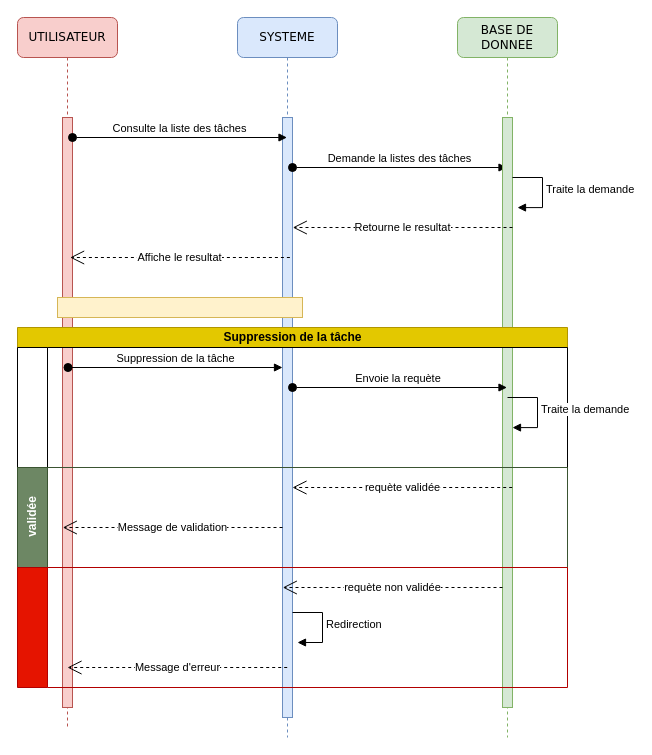
Some shapes in this 652 by 755 pixel diagram are drawn without their labels. Here are the shapes that lost their labels. From the top down, the centre of each, then its label:
the point at 179,307: CONNEXION
the point at 292,627: non validée
